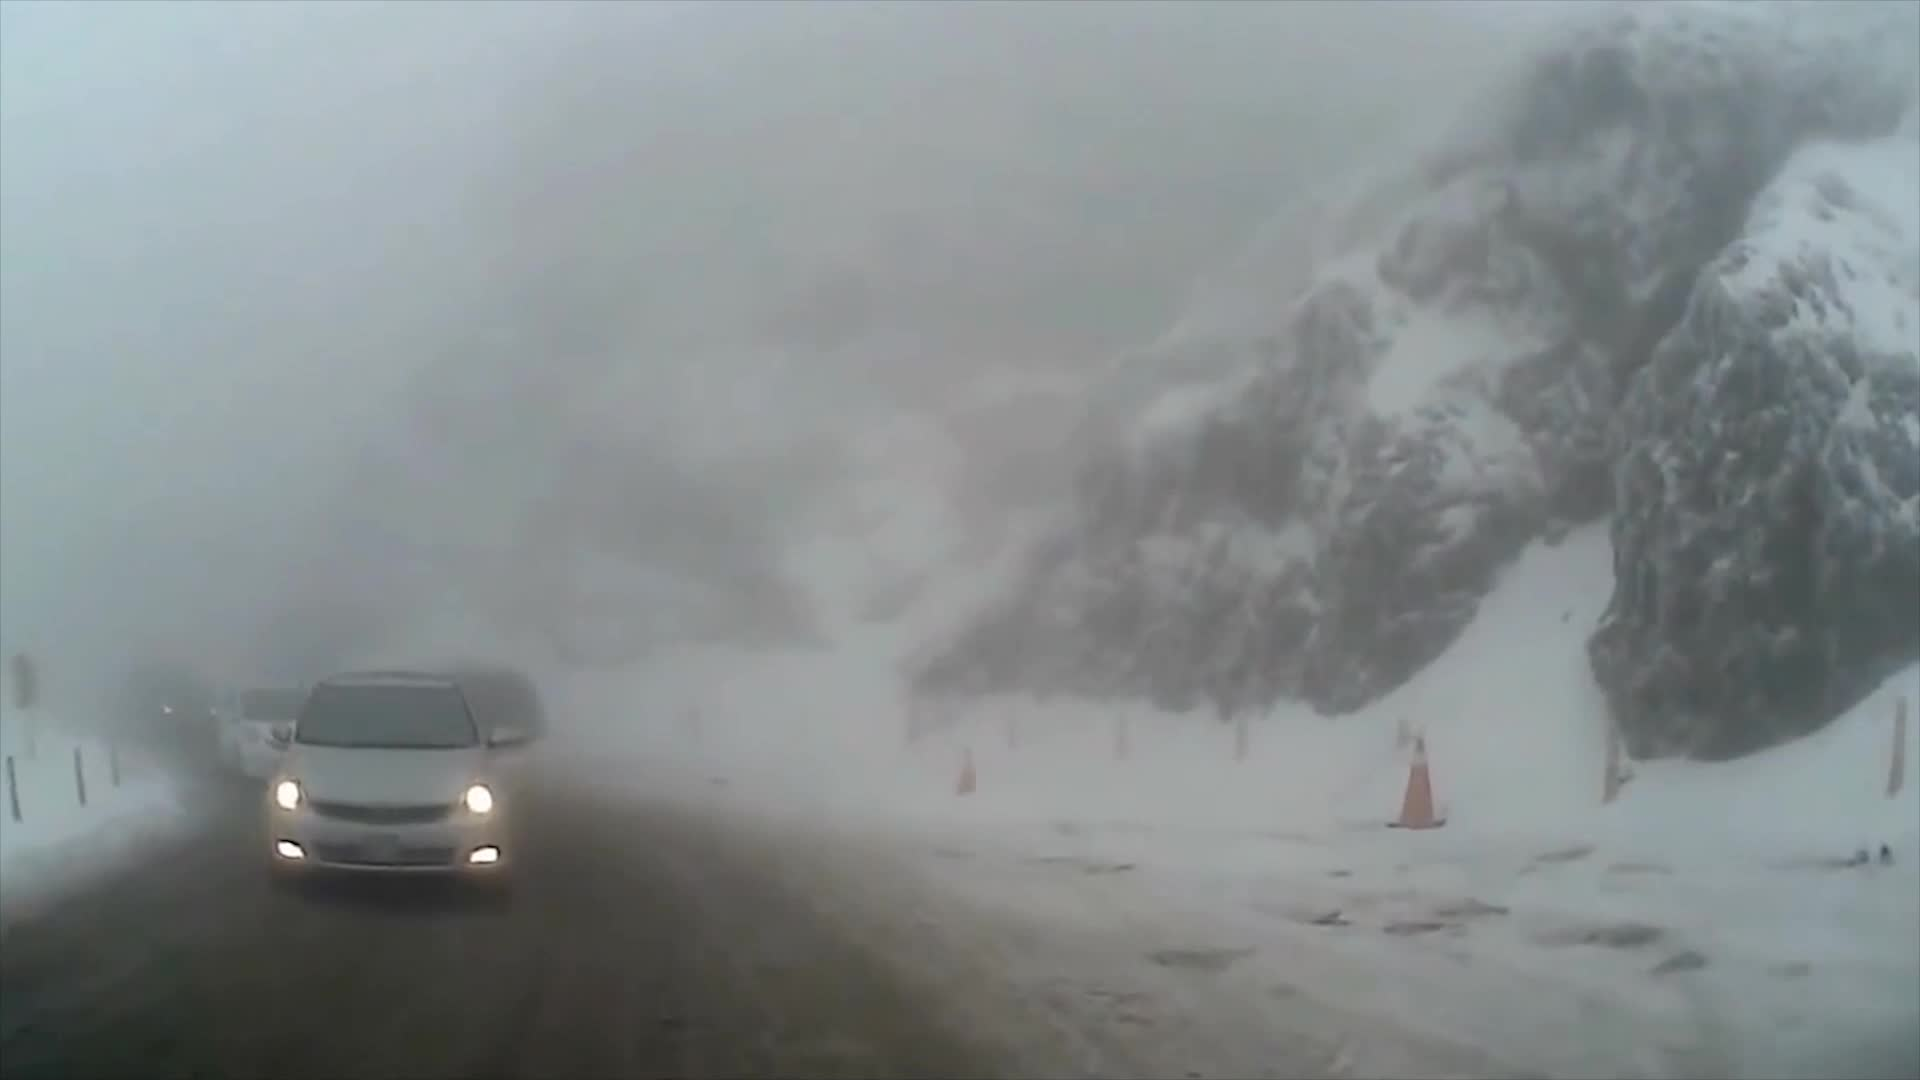vehicle: (260, 670, 516, 902), (207, 680, 345, 785)
